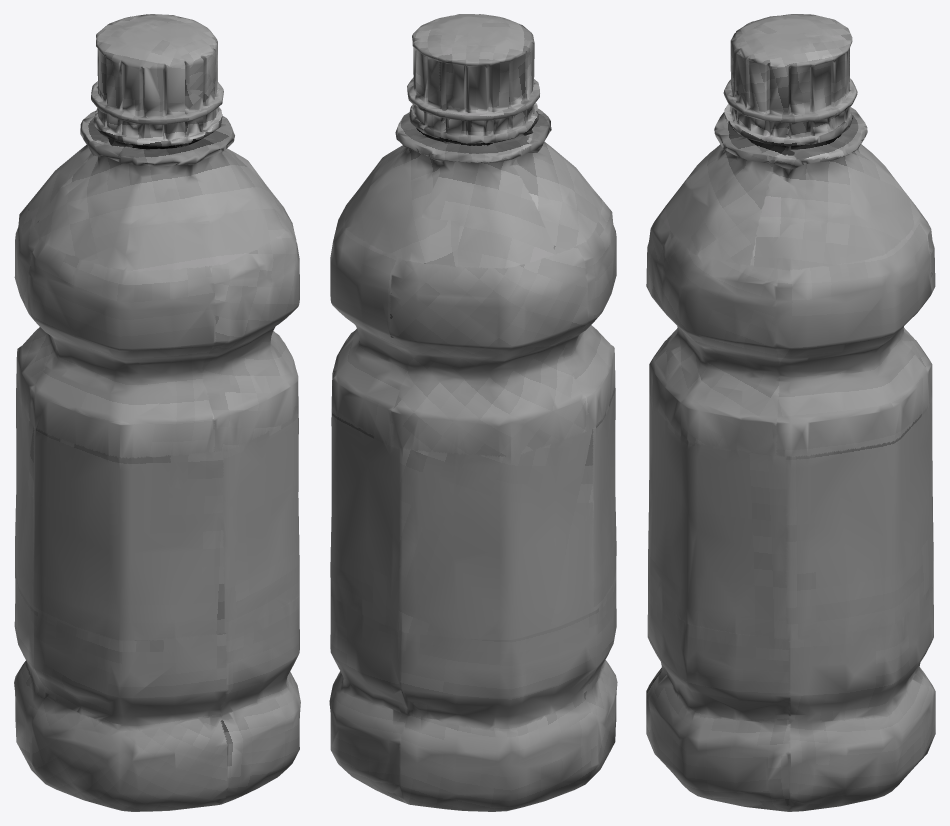
The model's file is m_water_bottle.glb.
3 renders of one model, left to right at view 1: azimuth 30°, elevation 25°; view 2: azimuth 150°, elevation 25°; view 3: azimuth 270°, elevation 25°, orthographic.
Parts seen in each view (by area): view 1: tripo_node_673f9c9c-72af-4a82-9991-6e536e52aefe; view 2: tripo_node_673f9c9c-72af-4a82-9991-6e536e52aefe; view 3: tripo_node_673f9c9c-72af-4a82-9991-6e536e52aefe.
Part boxes in pixels (x1,y1,x2,y2): tripo_node_673f9c9c-72af-4a82-9991-6e536e52aefe: (14, 14, 300, 811); tripo_node_673f9c9c-72af-4a82-9991-6e536e52aefe: (329, 14, 617, 811); tripo_node_673f9c9c-72af-4a82-9991-6e536e52aefe: (646, 14, 935, 811).
Bounding box in the file's own units: 0.3605 × 1 × 0.3602.
1 material, 1 textured.
